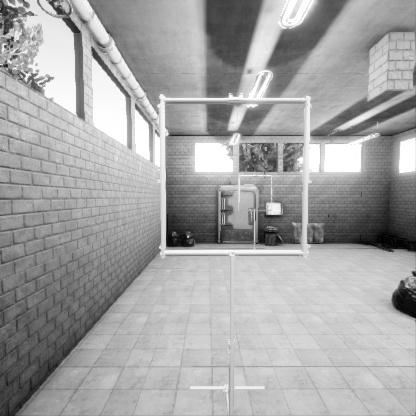gate: (163, 168, 317, 321), (238, 206, 274, 242)
